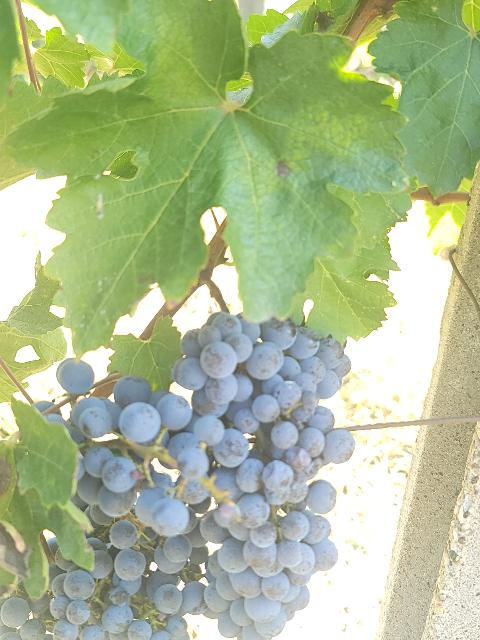grapes: (174, 312, 355, 640), (70, 376, 230, 539), (0, 520, 209, 640)
